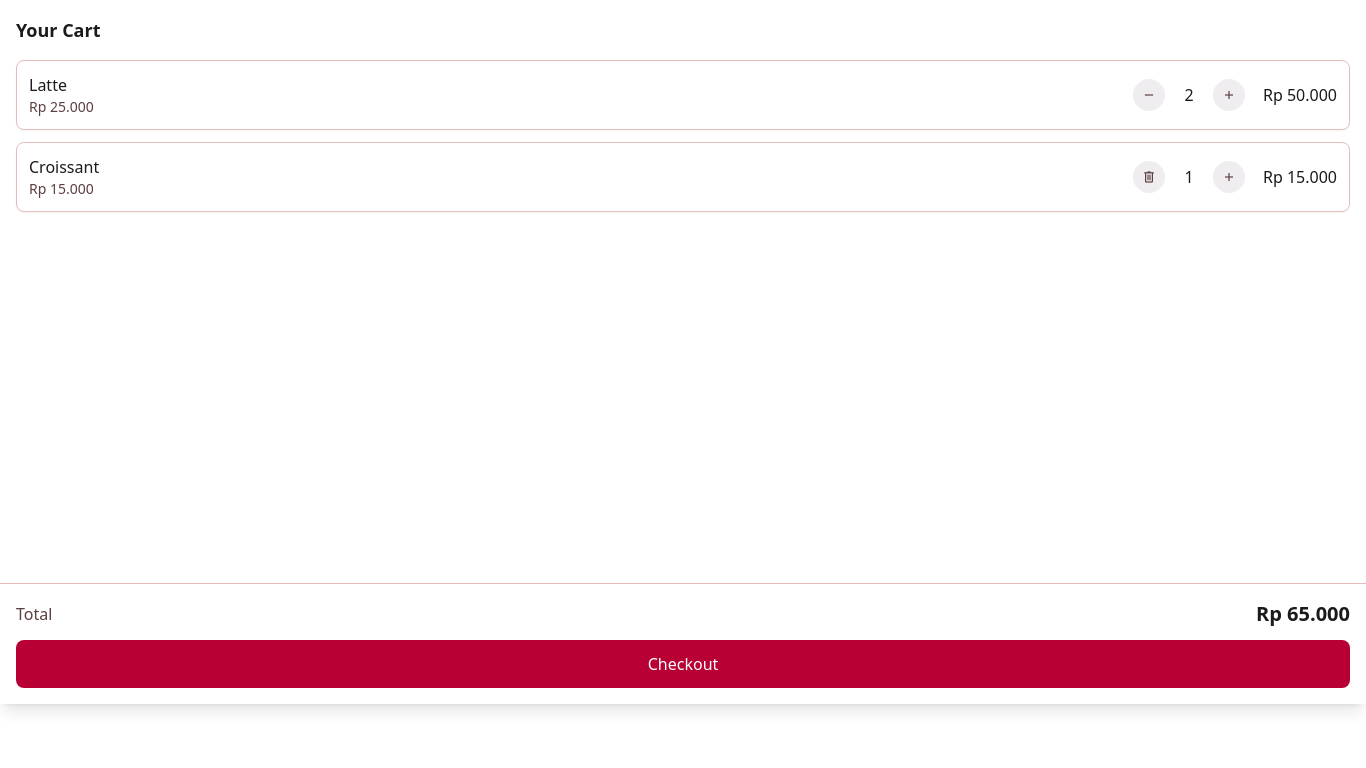
Test: CartView › navigates to payment step on checkout with items
This screenshot has width=1366, height=768.
Click the button with test id "checkout-btn" at (683, 664), box [16,640,1350,688]
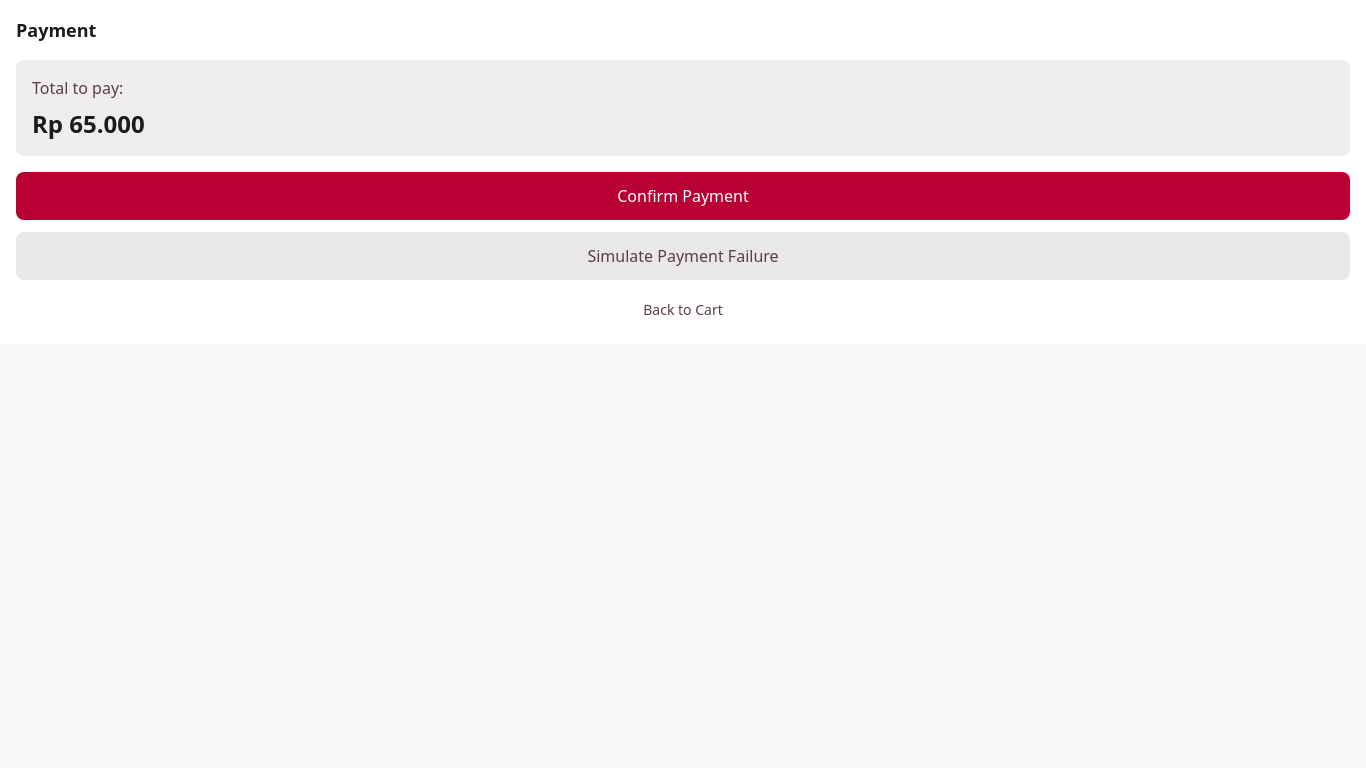
Check: the heading "Payment" is shown, box [16,18,96,42]
Check: the button with test id "confirm-payment-btn" is shown, box [16,172,1350,220]
